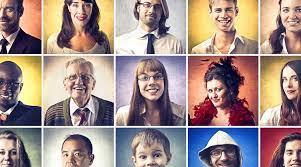Human Face: (64, 59, 96, 100), (131, 136, 173, 167), (136, 64, 168, 102), (61, 135, 96, 167), (205, 71, 235, 108), (1, 61, 24, 107), (210, 1, 241, 32), (280, 59, 301, 103), (136, 1, 167, 30), (206, 144, 242, 167), (1, 133, 25, 166), (278, 1, 301, 34), (67, 1, 95, 28), (278, 139, 301, 167), (1, 1, 21, 31)
